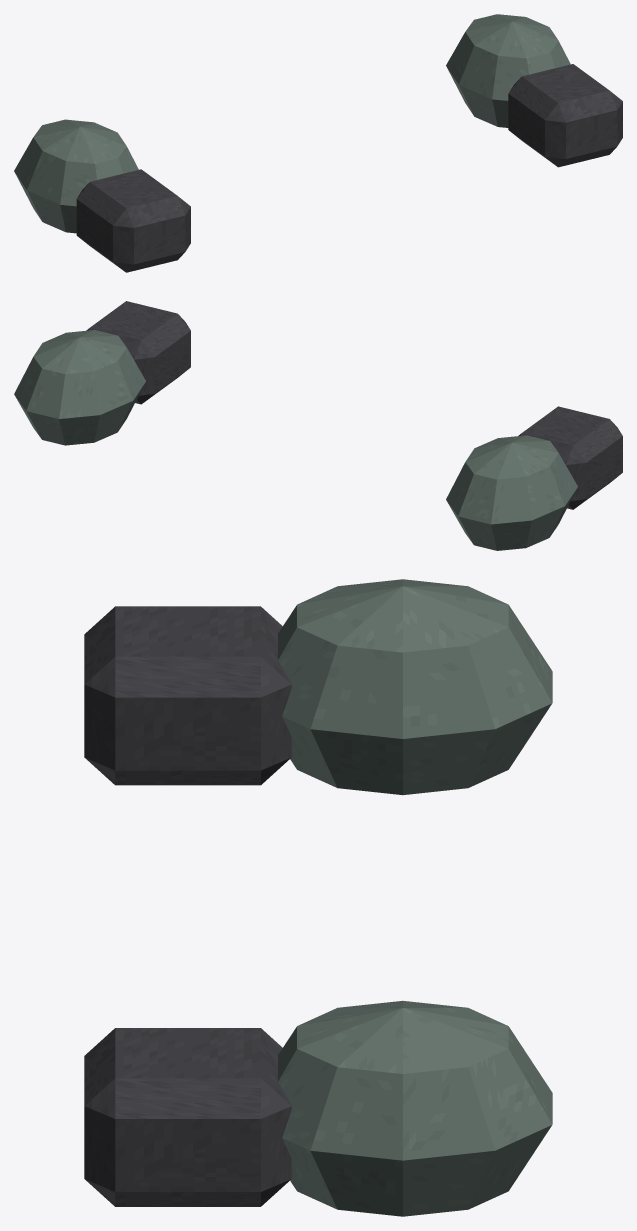
The model's file is powered_earplugs.glb.
The picture shows the model from 3 angles, top to bottom: view 1: azimuth 30°, elevation 25°; view 2: azimuth 150°, elevation 25°; view 3: azimuth 270°, elevation 25°; orthographic projection. The views are drawn at different scales.
Parts seen in each view (by area): view 1: block_plug handle (×2), block_earplug tip (×2); view 2: block_earplug tip (×2), block_plug handle (×2); view 3: block_earplug tip (×2), block_plug handle (×2).
Boxes of the visible parts, x1=… form: block_plug handle (×2): x1=76, y1=64, x2=622, y2=272; block_earplug tip (×2): x1=14, y1=14, x2=570, y2=233; block_earplug tip (×2): x1=14, y1=330, x2=577, y2=550; block_plug handle (×2): x1=86, y1=301, x2=622, y2=509; block_earplug tip (×2): x1=278, y1=579, x2=552, y2=1216; block_plug handle (×2): x1=84, y1=606, x2=291, y2=1206.
Size of the model in its own units: 0.1468 by 0.0263 by 0.0553.
1 material, 1 textured.
